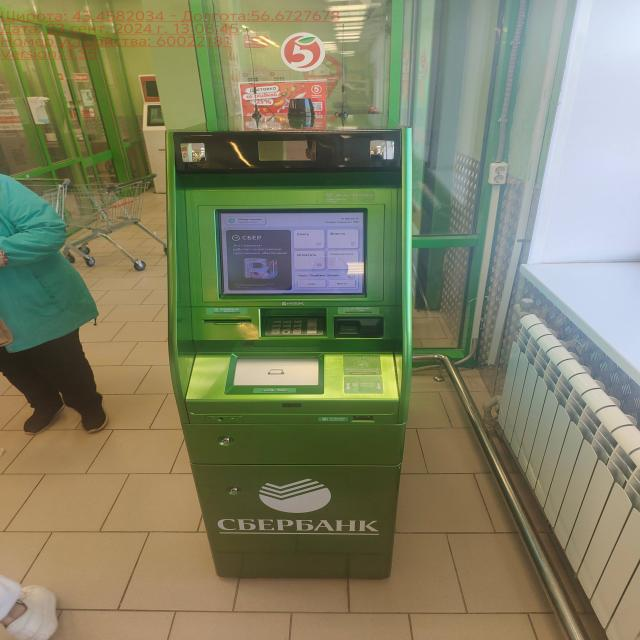bank: (164, 114, 415, 579)
